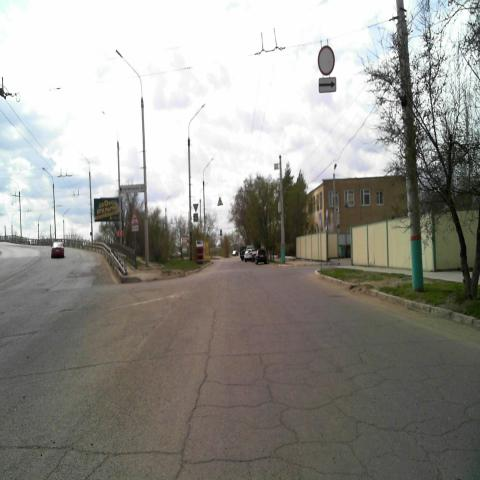3_2: (318, 44, 335, 76)
8_3_1: (318, 77, 336, 92)
